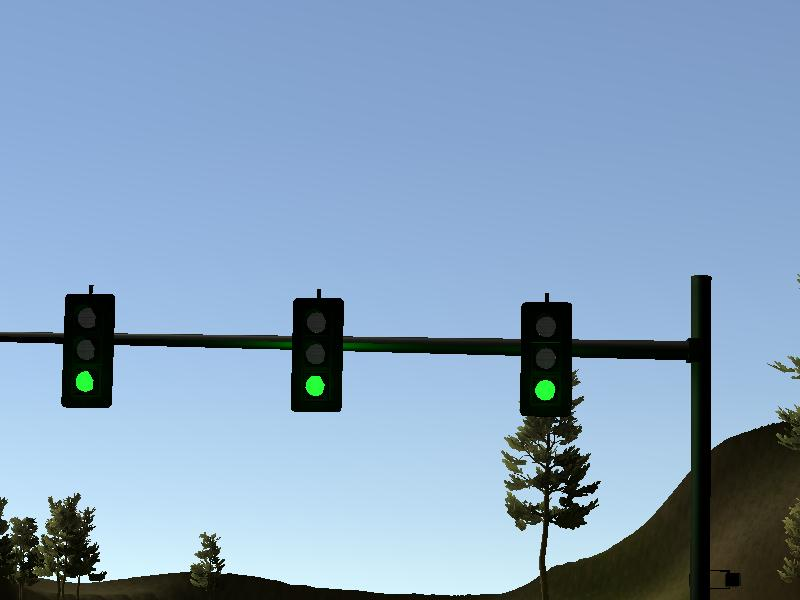green: (62, 291, 114, 408), (291, 297, 343, 414), (519, 300, 571, 417)
